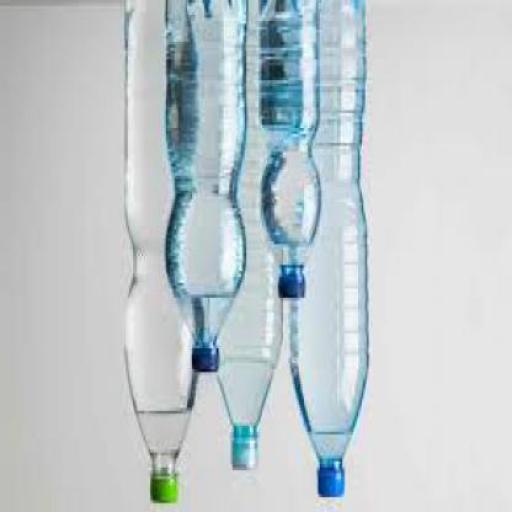plastic: (290, 3, 371, 500), (126, 4, 200, 506), (218, 3, 285, 471), (166, 3, 250, 375), (261, 3, 325, 301), (232, 435, 260, 470), (152, 474, 180, 506), (320, 468, 346, 500), (280, 274, 307, 301), (194, 348, 220, 372)
